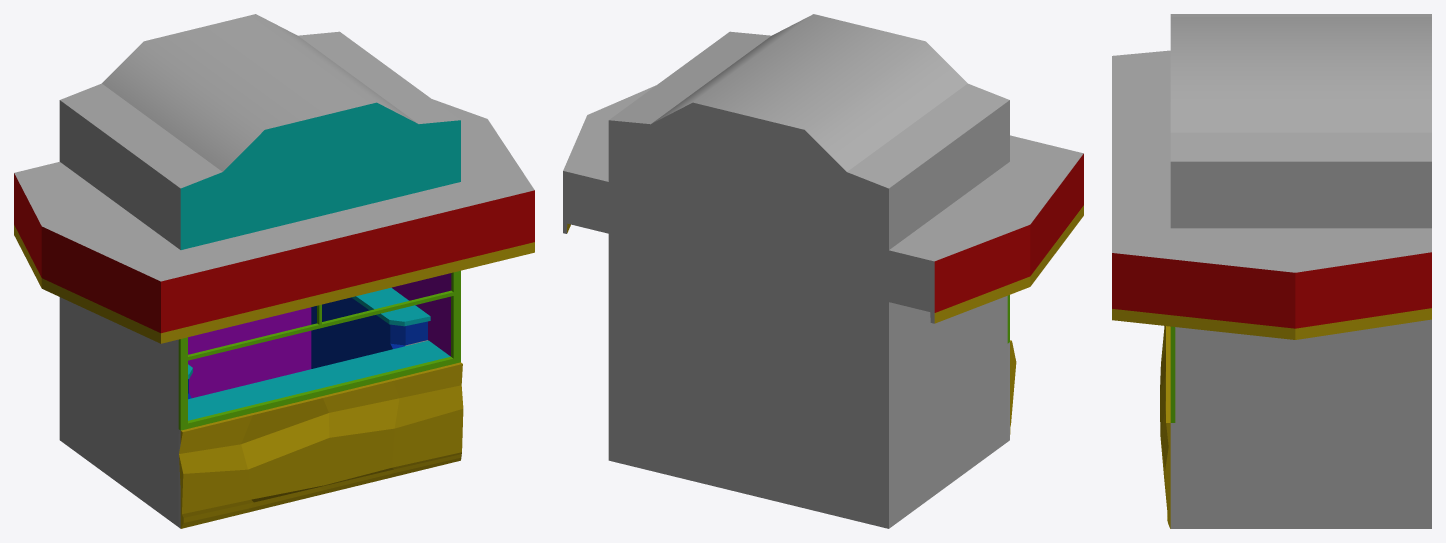
Rendered from CornDogStand.fbx.
3 renders of one model, left to right at view 1: azimuth 30°, elevation 25°; view 2: azimuth 150°, elevation 25°; view 3: azimuth 270°, elevation 25°, orthographic. The views are drawn at different scales.
Parts seen in each view (by area): view 1: CornDogStand; view 2: CornDogStand; view 3: CornDogStand.
Boxes of the visible parts, box(x1,y1,x2,y2) form: CornDogStand: box(14, 14, 534, 528); CornDogStand: box(563, 14, 1083, 528); CornDogStand: box(1112, 14, 1431, 528).
Size of the model in its own units: 656 by 533 by 378.
